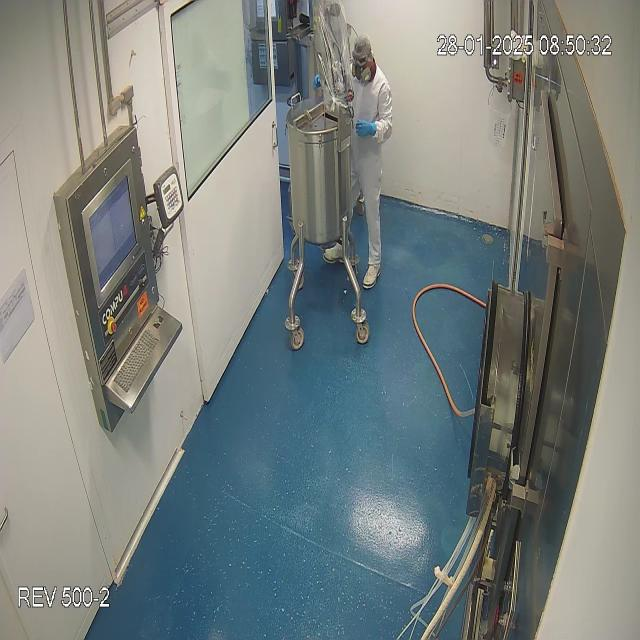bota: (323, 239, 378, 288), (348, 31, 377, 82)
pessoa: (349, 33, 392, 288)
